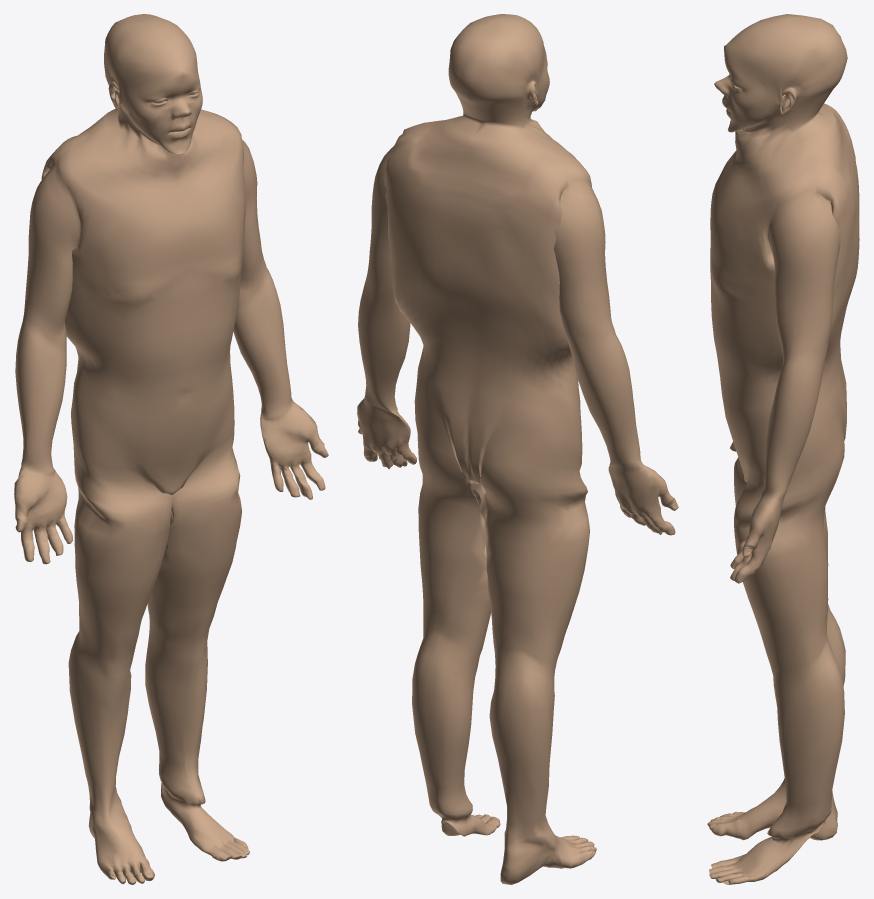
File: skin-candidate-f1c6.glb
3 views of the same model, side by side, from view 1: azimuth 30°, elevation 25°; view 2: azimuth 150°, elevation 25°; view 3: azimuth 270°, elevation 25° (orthographic). The views are drawn at different scales.
Parts seen in each view (by area): view 1: MakeHuman_AT10_skin_fit_candidate_f1c6; view 2: MakeHuman_AT10_skin_fit_candidate_f1c6; view 3: MakeHuman_AT10_skin_fit_candidate_f1c6.
Boxes of the visible parts, x1,y1,x2,y2 form: MakeHuman_AT10_skin_fit_candidate_f1c6: (14, 14, 328, 884); MakeHuman_AT10_skin_fit_candidate_f1c6: (357, 14, 678, 884); MakeHuman_AT10_skin_fit_candidate_f1c6: (707, 14, 859, 884).
Size of the model in its own units: 0.6758 by 1.71 by 0.2826.
